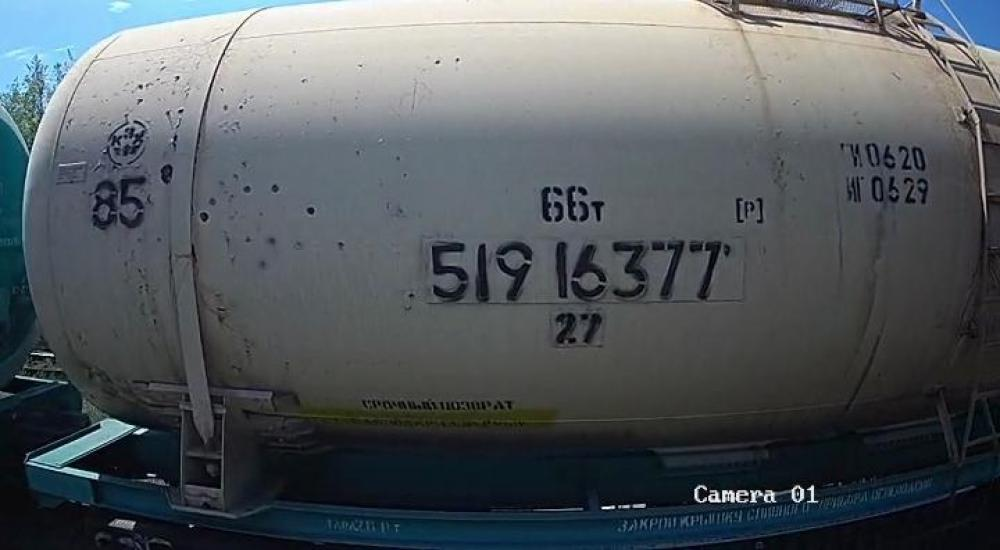Wagon-number: (426, 238, 729, 306)
